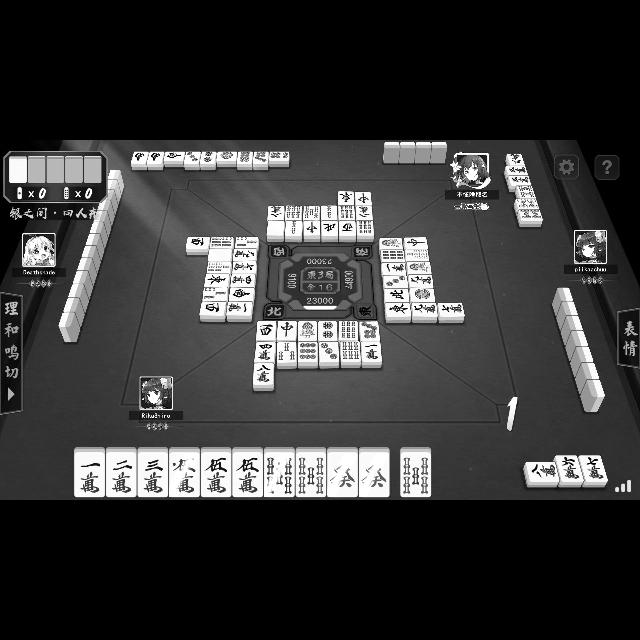1m: (74, 447, 106, 497), (362, 342, 382, 368), (227, 302, 253, 322), (382, 263, 406, 275)
1p: (410, 288, 436, 302), (217, 151, 237, 167)
1s: (298, 321, 318, 341), (406, 262, 432, 274), (380, 238, 402, 250)
2m: (106, 447, 136, 497), (356, 206, 372, 220)
2p: (318, 321, 338, 341), (202, 152, 216, 170)
2s: (286, 220, 302, 242), (321, 206, 337, 220)
3m: (138, 447, 168, 497), (506, 154, 524, 166), (504, 167, 528, 176), (505, 176, 531, 184)
3p: (319, 342, 339, 368), (183, 152, 200, 170), (384, 276, 408, 288)
3s: (278, 342, 296, 368), (202, 288, 228, 300), (236, 238, 258, 248)
4m: (255, 343, 275, 363), (231, 274, 255, 288)
5m: (200, 447, 232, 497), (232, 447, 264, 497), (170, 447, 200, 498)
5s: (264, 447, 296, 497), (401, 447, 432, 497), (296, 448, 326, 497), (304, 206, 320, 220)
6m: (556, 456, 582, 486)
6p: (269, 151, 289, 167)
6s: (341, 342, 361, 368), (210, 237, 233, 249), (286, 206, 302, 220)
7m: (580, 457, 606, 488), (438, 303, 464, 323), (233, 262, 257, 274)
7p: (359, 322, 379, 341), (254, 152, 268, 170)
7s: (206, 261, 232, 273), (405, 250, 429, 260)
8m: (524, 462, 560, 488), (254, 364, 274, 391), (268, 206, 284, 220)
8p: (238, 152, 252, 170)
8s: (518, 210, 542, 227), (514, 199, 540, 209), (516, 186, 536, 198)
9m: (412, 304, 436, 322), (408, 274, 434, 288), (234, 250, 256, 260)
9p: (298, 342, 318, 368)
9s: (338, 321, 358, 341), (356, 222, 374, 242), (380, 250, 404, 262), (338, 206, 356, 220)
chun: (278, 321, 296, 341), (304, 220, 320, 242), (354, 192, 372, 206), (404, 238, 428, 248)
haku: (9, 156, 27, 184)
hatsu: (328, 448, 358, 497), (359, 448, 389, 497), (266, 221, 284, 241), (208, 250, 232, 260)
nan: (230, 288, 254, 302), (130, 152, 148, 170)
pe: (322, 222, 338, 242), (384, 290, 410, 302), (163, 152, 184, 166), (148, 152, 162, 170)
sha: (200, 302, 226, 322), (186, 237, 210, 255), (257, 321, 275, 342), (339, 222, 356, 242)
tou: (385, 303, 411, 323), (204, 274, 230, 288), (338, 192, 354, 204)
